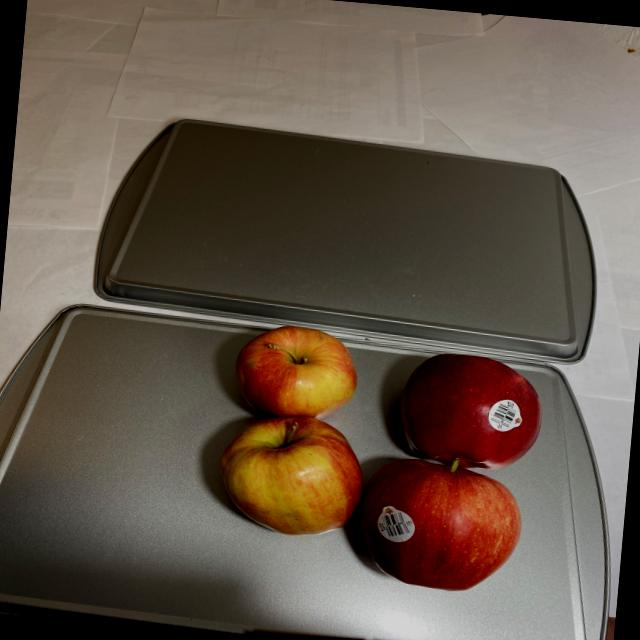apple: (210, 321, 550, 597)
